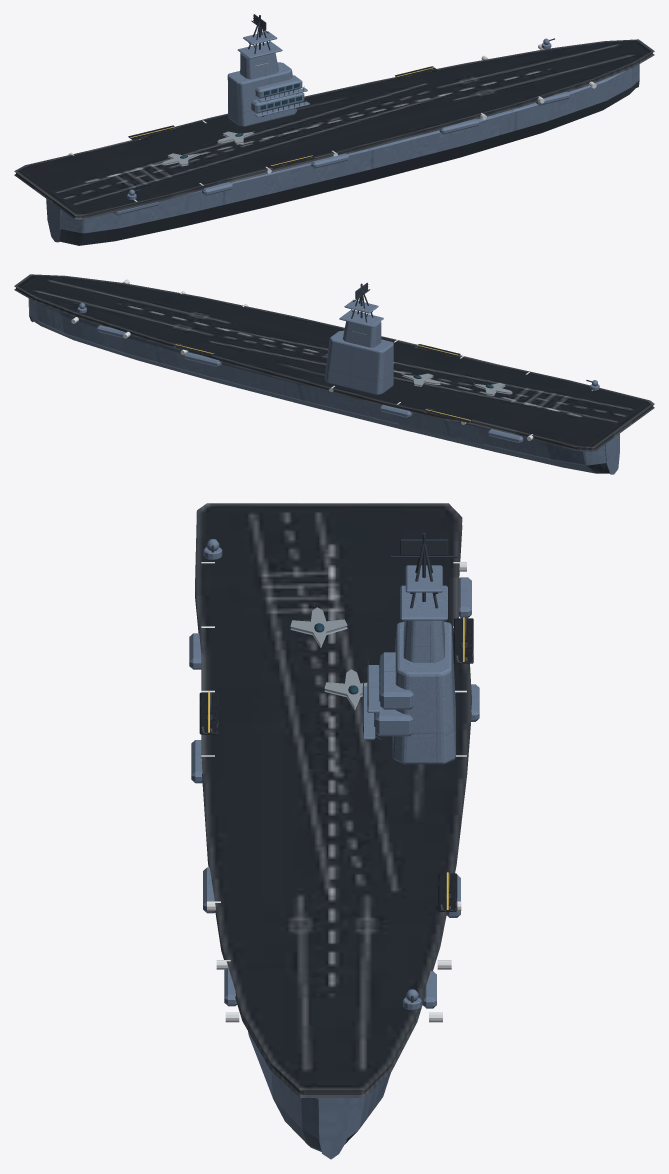
File: carrier-modern.glb
3 views of the same model, one above another, from view 1: azimuth 30°, elevation 25°; view 2: azimuth 150°, elevation 25°; view 3: azimuth 270°, elevation 25° (orthographic). The views are drawn at different scales.
Visible parts, largest first — view 1: Carrier_Flight_Deck, Carrier_Hull, Ford_V3_Island_Core, Ford_V3_Integrated_Mast, Ford_V3_Island_Bridge, Ford_V3_Flight_Control_Pod, Ford_V3_Mast_Platform_1; view 2: Carrier_Flight_Deck, Carrier_Hull, Ford_V3_Island_Core, Ford_V3_Integrated_Mast, Ford_V3_Mast_Platform_1; view 3: Carrier_Flight_Deck, Ford_V3_Island_Core, Carrier_Hull, Ford_V3_Integrated_Mast, Ford_V3_Mast_Platform_1, Ford_V3_Island_Bridge, Ford_V3_Flight_Control_Pod, Ford_V3_Mast_Platform_2, Aircraft_01.
Part boxes in pixels (left/top/right/bottom): Carrier_Flight_Deck: left=14, top=39, right=654, bottom=219; Carrier_Hull: left=46, top=64, right=639, bottom=245; Ford_V3_Island_Core: left=227, top=62, right=297, bottom=126; Ford_V3_Integrated_Mast: left=240, top=53, right=278, bottom=79; Ford_V3_Island_Bridge: left=255, top=75, right=302, bottom=98; Ford_V3_Flight_Control_Pod: left=251, top=89, right=304, bottom=113; Ford_V3_Mast_Platform_1: left=237, top=41, right=282, bottom=58; Carrier_Flight_Deck: left=14, top=274, right=654, bottom=451; Carrier_Hull: left=28, top=298, right=619, bottom=474; Ford_V3_Island_Core: left=324, top=330, right=393, bottom=394; Ford_V3_Integrated_Mast: left=343, top=321, right=381, bottom=347; Ford_V3_Mast_Platform_1: left=339, top=310, right=383, bottom=327; Carrier_Flight_Deck: left=195, top=503, right=471, bottom=1097; Ford_V3_Island_Core: left=392, top=621, right=455, bottom=764; Carrier_Hull: left=248, top=1031, right=390, bottom=1159; Ford_V3_Integrated_Mast: left=403, top=620, right=444, bottom=662; Ford_V3_Mast_Platform_1: left=400, top=585, right=447, bottom=620; Ford_V3_Island_Bridge: left=380, top=652, right=413, bottom=709; Ford_V3_Flight_Control_Pod: left=375, top=706, right=412, bottom=736; Ford_V3_Mast_Platform_2: left=405, top=565, right=442, bottom=592; Aircraft_01: left=290, top=607, right=347, bottom=647.
Bounding box in the file's own units: 50.16 × 12.25 × 10.48.
Materials: 9 (2 with a texture image).
